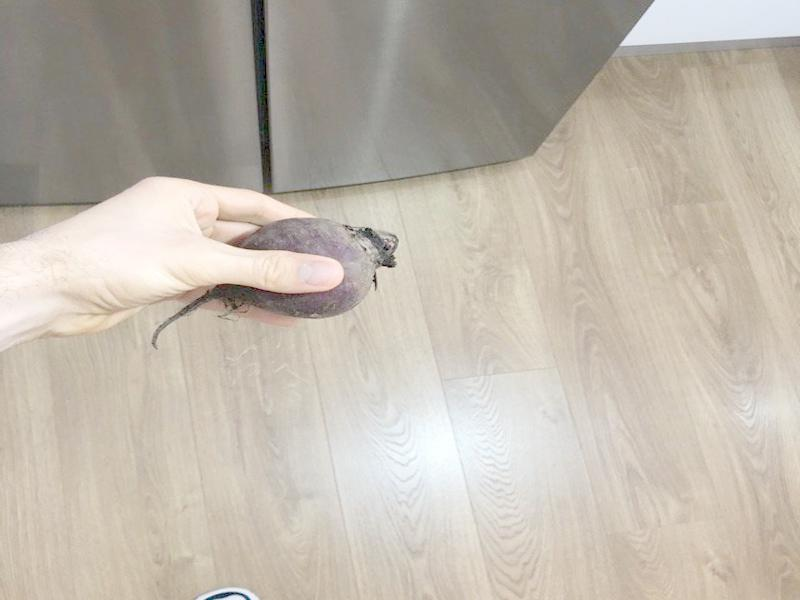Beet: (154, 217, 400, 350)
